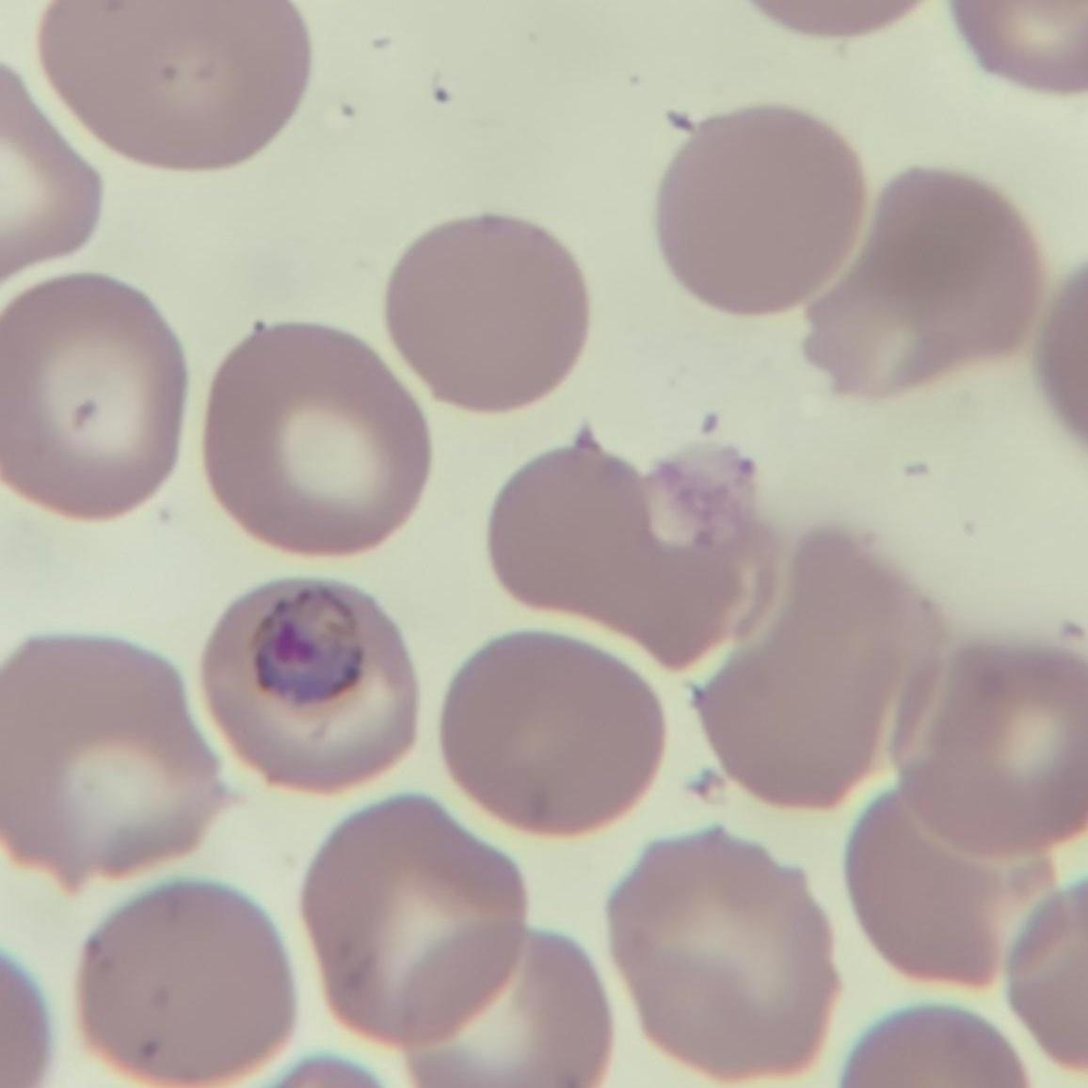Infected: (207, 578, 413, 793)
Uninfected: (691, 533, 934, 811), (604, 823, 829, 1079), (489, 445, 755, 660), (0, 637, 223, 889), (305, 793, 529, 1036), (811, 175, 1041, 392), (207, 324, 425, 549), (38, 0, 311, 171), (446, 633, 669, 836), (0, 275, 187, 514), (841, 791, 1074, 982), (75, 881, 291, 1085), (661, 108, 871, 314), (894, 650, 1082, 860), (392, 217, 588, 415), (401, 923, 613, 1088)
